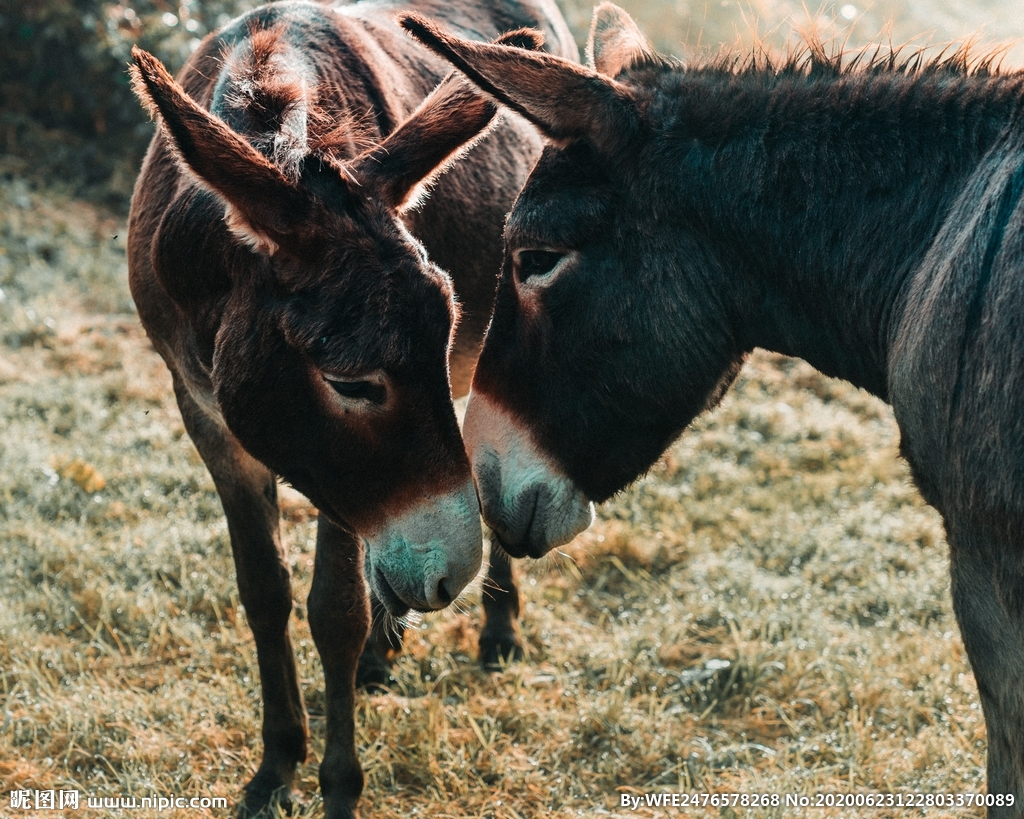background: (119, 2, 563, 819)
